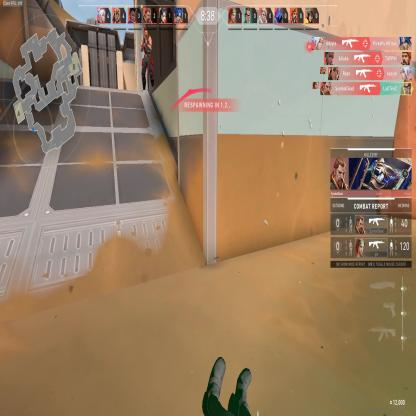enemy: (140, 26, 156, 91)
